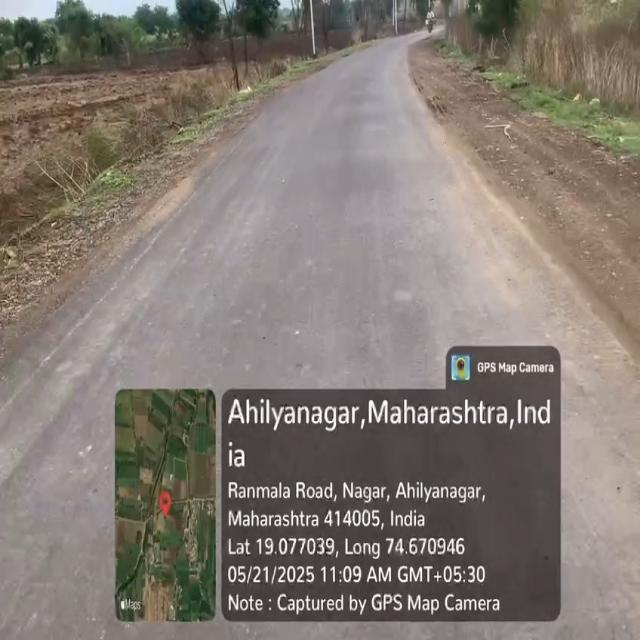damage surface: (151, 178, 196, 230)
